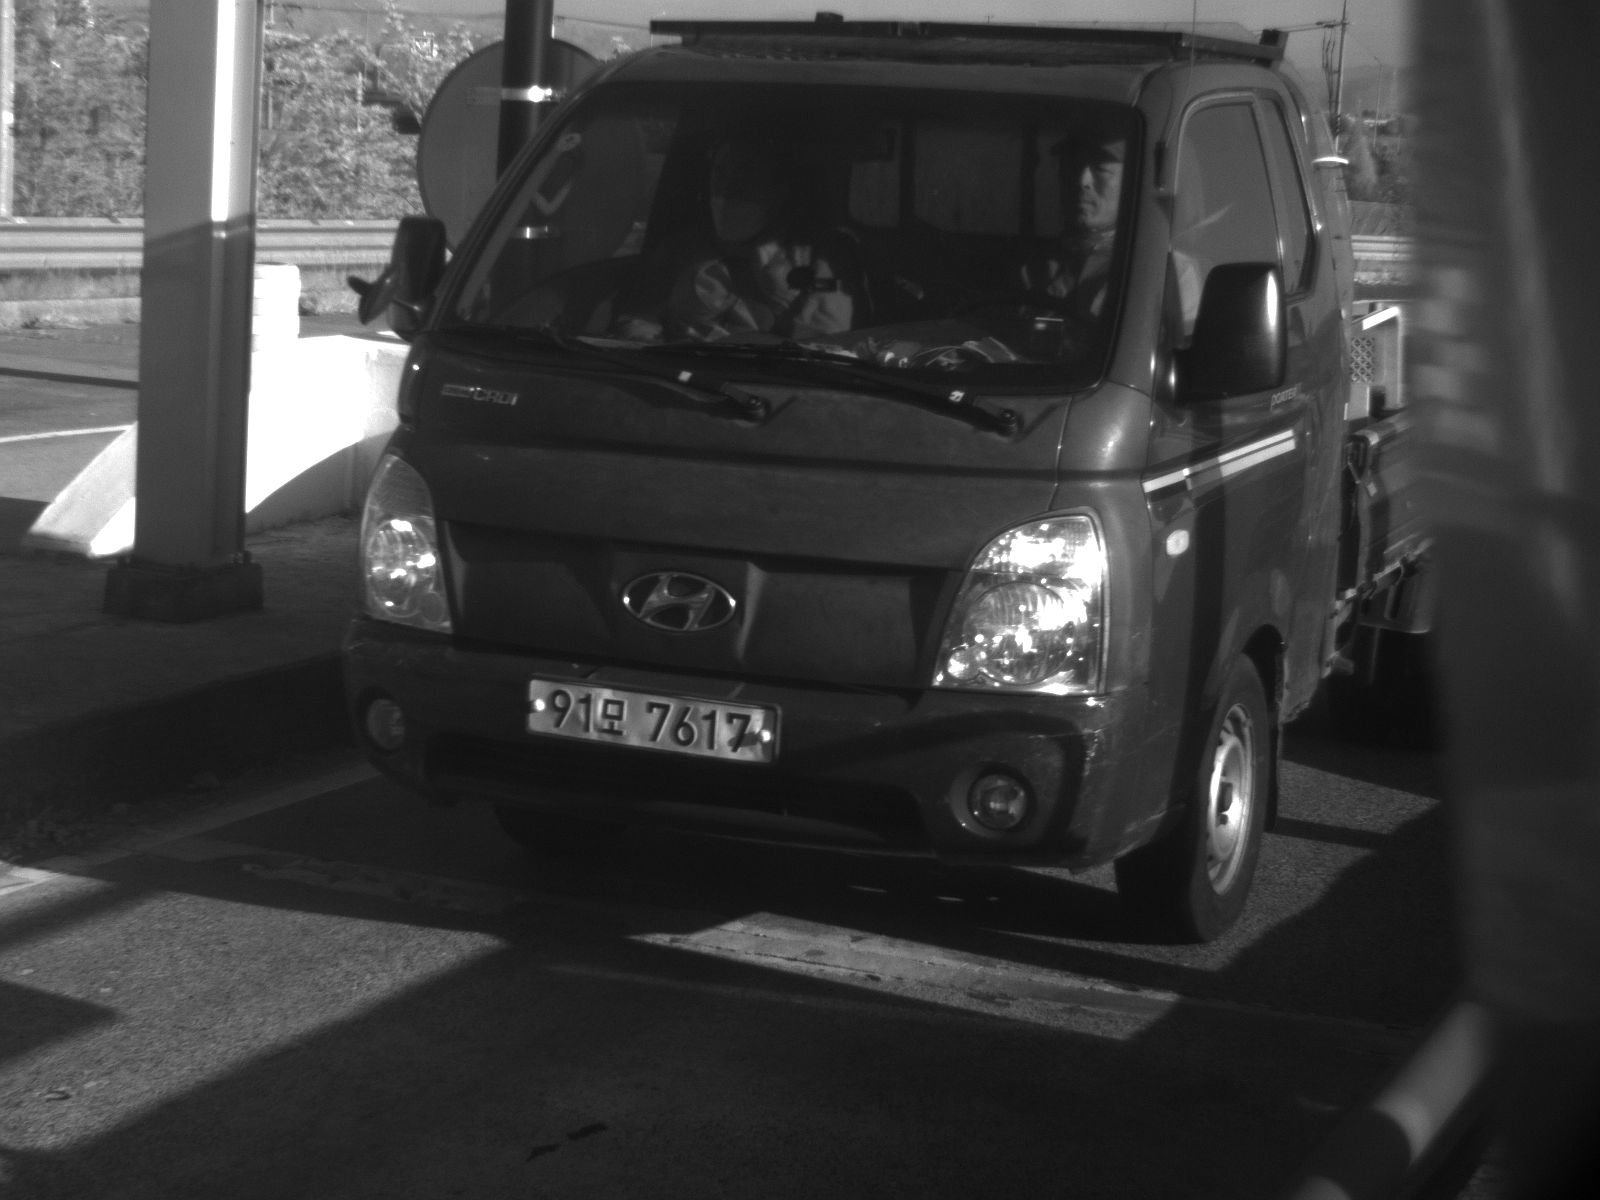car: (337, 1, 1440, 950)
plate: (522, 673, 784, 768)
